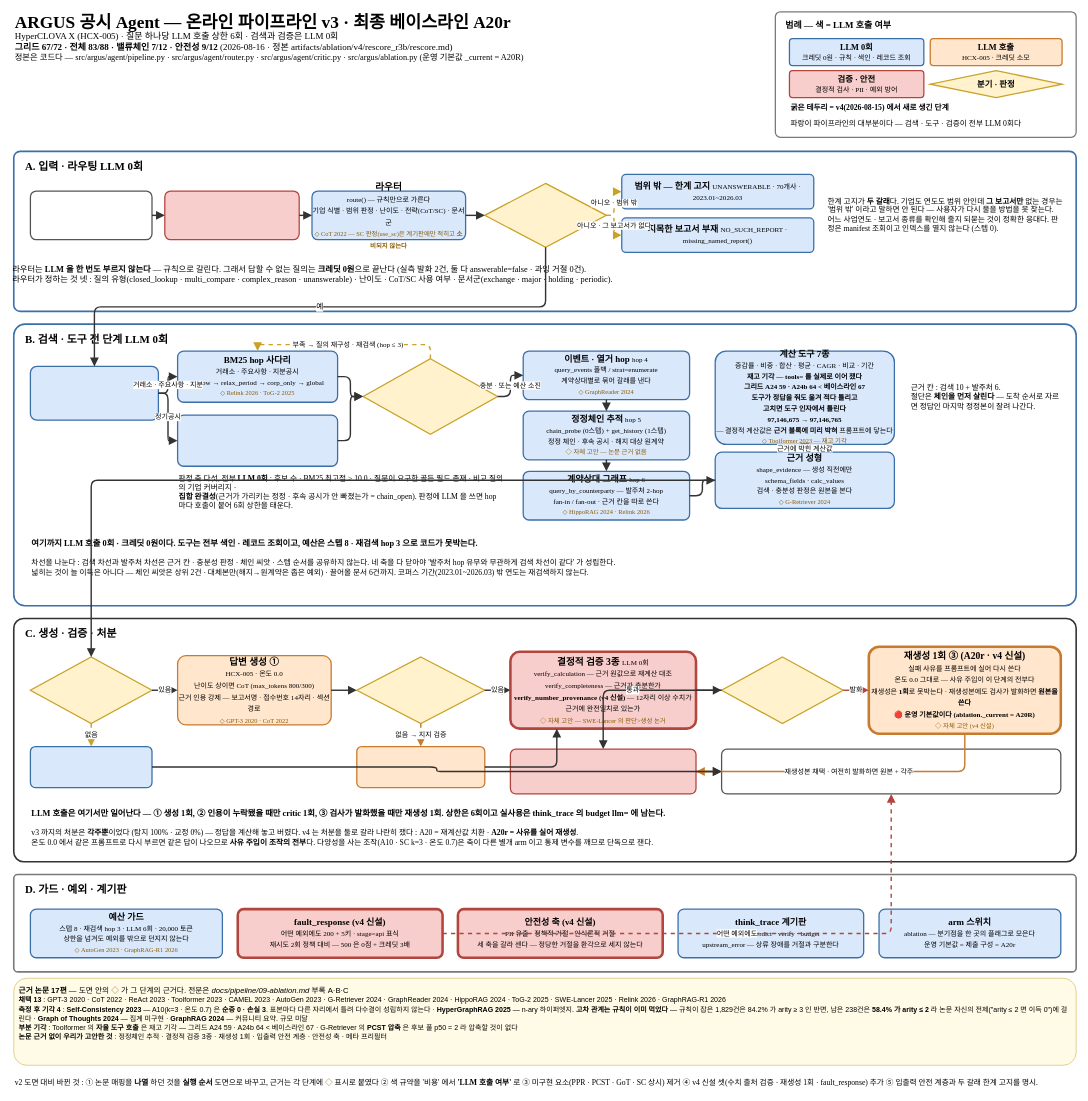
Image size: 1088x1101. Some labels were removed from this diagram. Each missing label, with the centre of its shape:
critic judge ② 인용이 없을 때만 부른다 ◇ SWE-Lancer 2025 · CAMEL 2023: point 420,767
검사가 발화했나: point 782,690
근거 표기가 있는가 quick_check: point 420,690
근거가 있는가: point 90,690
근거가 충분한가 _sufficiency ◇ ReAct 2023 · ToG-2 2025: point 430,396
답할 수 있는 범위인가: point 545,215
메타 프리필터 filter_docs / 검색 인자 corp_name · rcept_dt · group: point 94,392
섹션 인덱스 hop 정기공시 — 목차 경로로 좁힌다 toc_narrow · toc_corp (사업연도 축) ◇ GraphReader 2024: point 257,440
응답 — 5키 JSON question_id · question · retrieved_context · think_trace · answer: point 891,771
입력 안전 계층 sanitize_question PII 마스킹 · 프롬프트 인젝션 탐지: point 232,215
질의 수신 GET /answer question_id · question: point 90,215
출력 안전 계층 mask_pii — 주민번호 · 전화 · 이메일 · 계좌 금액 · 접수번호는 건드리지 않는다: point 602,771
한계 고지 LLM 호출 없이 내보낸다: point 90,767
